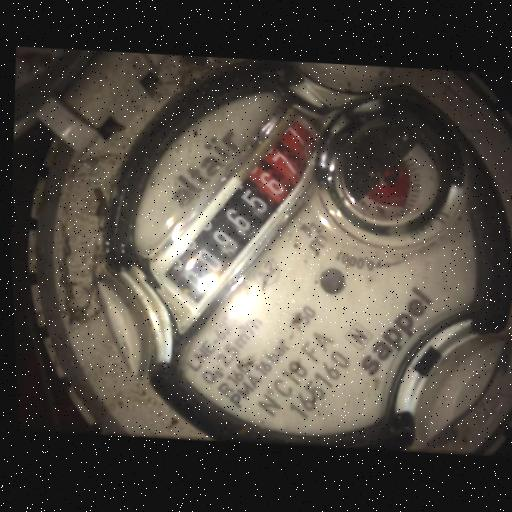0: (160, 250, 219, 305), (181, 234, 234, 284)
5: (228, 175, 283, 225)
6: (210, 196, 266, 246), (244, 158, 297, 206)
7: (271, 119, 325, 169), (257, 140, 312, 189)
9: (196, 215, 250, 265)
border_water_meter_number: (136, 87, 366, 336)
